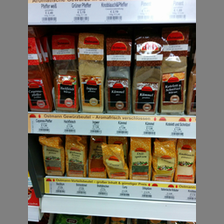spices: (159, 32, 187, 112), (77, 34, 105, 112), (51, 34, 79, 111), (105, 39, 133, 113), (27, 31, 52, 111), (133, 37, 159, 112), (39, 136, 66, 176), (101, 142, 129, 178), (65, 136, 88, 177), (153, 139, 175, 180), (130, 138, 151, 179), (176, 140, 196, 183)
